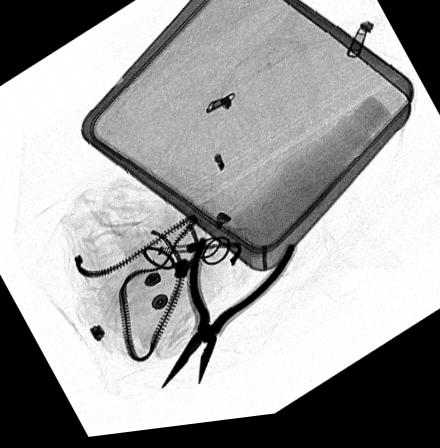Pliers: (157, 240, 295, 397)
